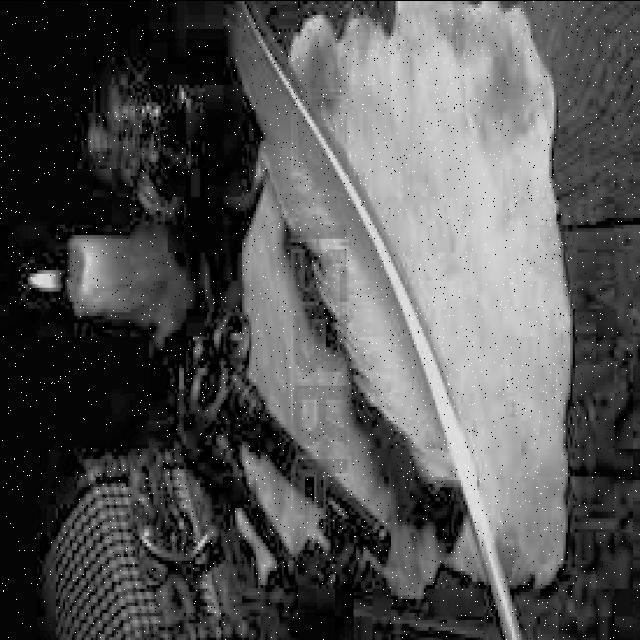api: (29, 257, 69, 295)
